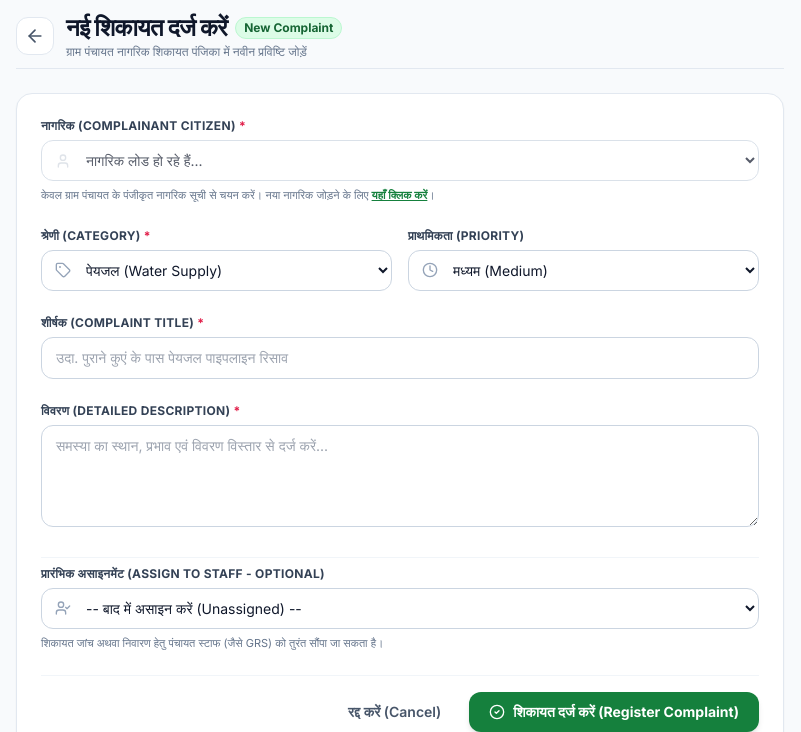
Test: CreateComplaintPage Component › validates mandatory fields and blocks submission when empty
Check: the heading "नई शिकायत दर्ज करें" is shown, box [66,12,227,44]
Click the button "शिकायत दर्ज करें (Register Complaint)".
click(614, 712)  # box [469,692,759,731]
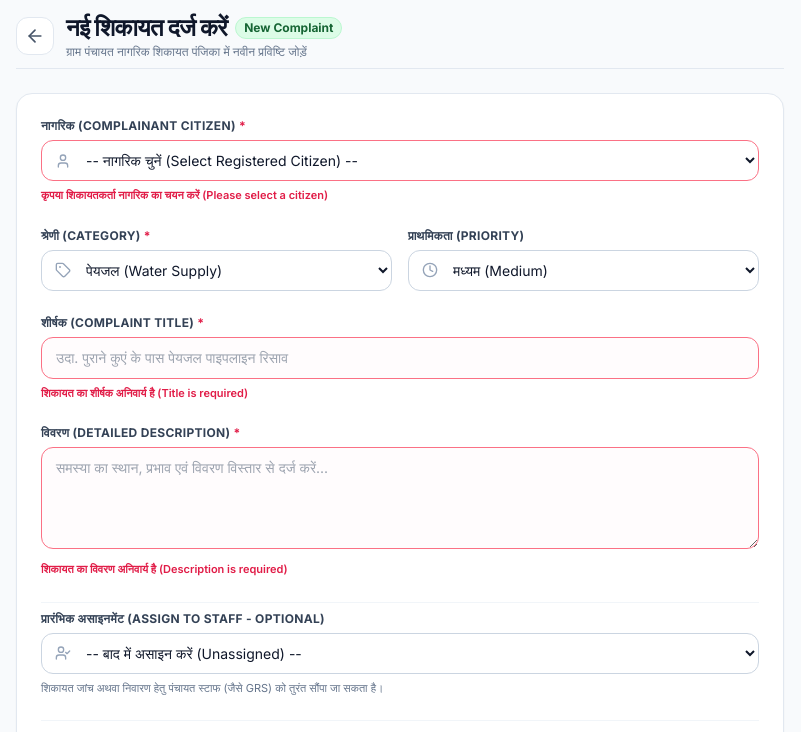
Check: the text "कृपया शिकायतकर्ता नागरिक का चयन करें" is shown, box [41,188,328,202]
